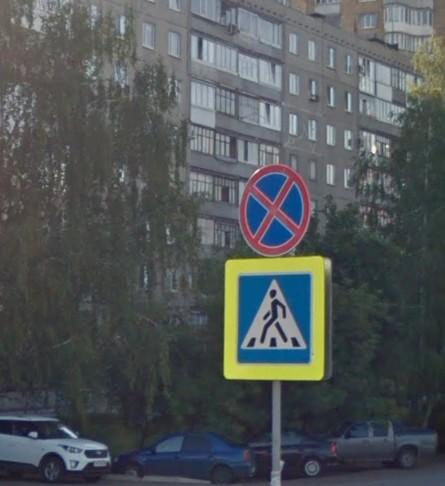No Parking: (237, 161, 315, 260)
